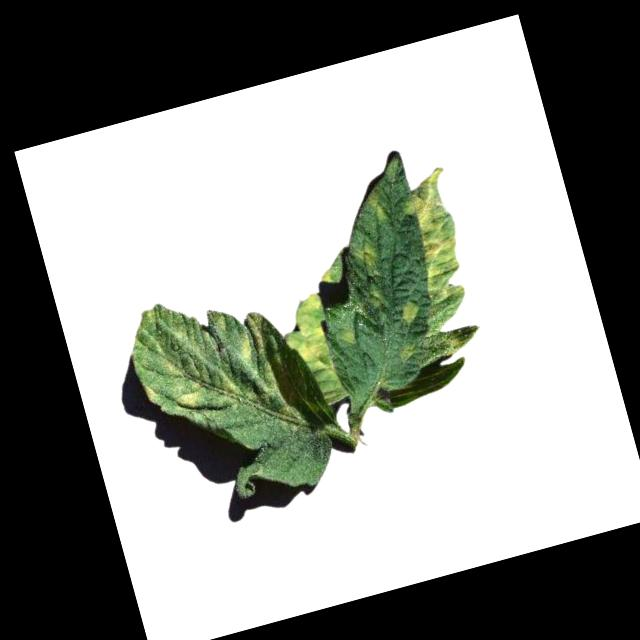Leaf_Mold: (398, 164, 481, 326), (274, 290, 338, 378), (347, 229, 386, 281), (167, 375, 205, 415), (230, 329, 258, 365), (393, 296, 422, 326), (140, 376, 163, 406)
